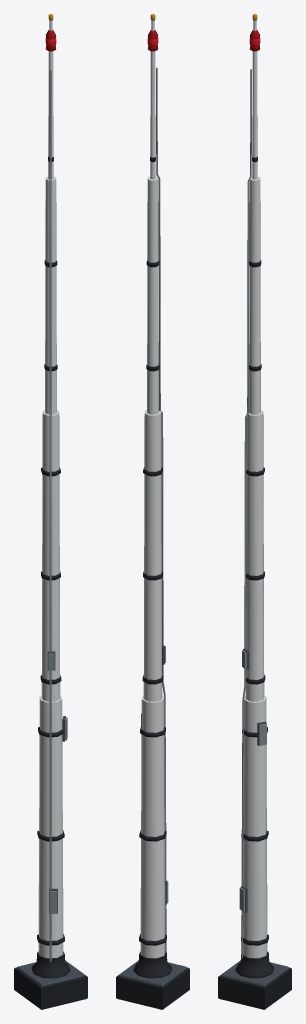
The model's file is XBeanXJohnHancocksSpireV1_LOD1.fbx.
The picture shows the model from 3 angles, left to right: view 1: azimuth 30°, elevation 25°; view 2: azimuth 150°, elevation 25°; view 3: azimuth 330°, elevation 25°; orthographic projection.
Parts seen in each view (by area): view 1: XBeanXJohnHancocksSpireV1_LOD1; view 2: XBeanXJohnHancocksSpireV1_LOD1; view 3: XBeanXJohnHancocksSpireV1_LOD1.
Boxes of the visible parts, bbox=[...] form: XBeanXJohnHancocksSpireV1_LOD1: bbox=[14, 14, 87, 1009]; XBeanXJohnHancocksSpireV1_LOD1: bbox=[116, 14, 189, 1009]; XBeanXJohnHancocksSpireV1_LOD1: bbox=[218, 14, 291, 1009].
Bounding box in the file's own units: 300 × 6000 × 300.
Materials: 1 (1 with a texture image).
